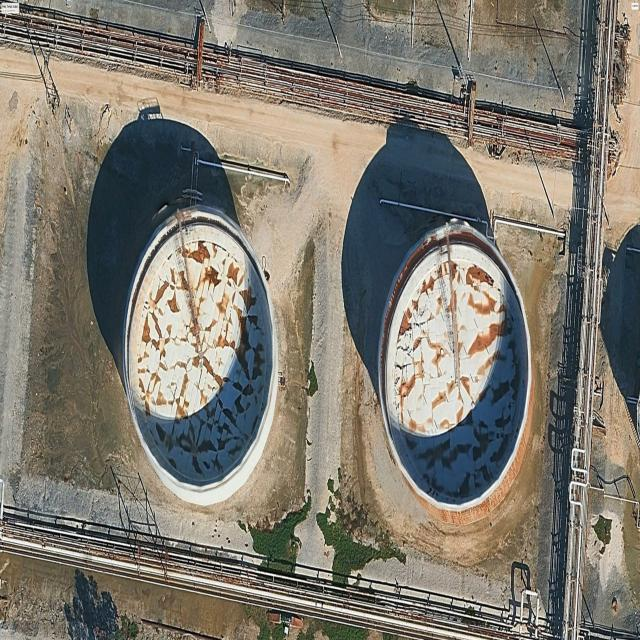Oil Rafinery: (122, 206, 278, 505), (378, 223, 531, 512)
